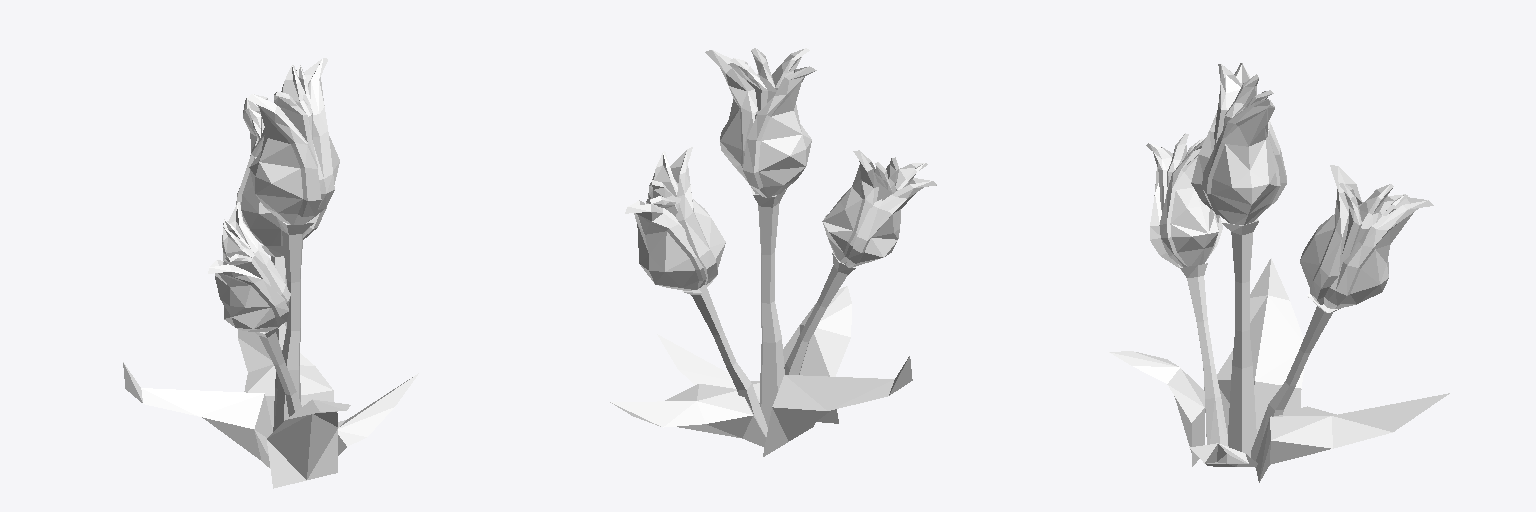
Rendered from flower_02.obj.
3 views of the same model, side by side, from view 1: azimuth 30°, elevation 25°; view 2: azimuth 150°, elevation 25°; view 3: azimuth 270°, elevation 25° (orthographic).
Bounding box in the file's own units: 0.6512 × 0.876 × 0.6996.